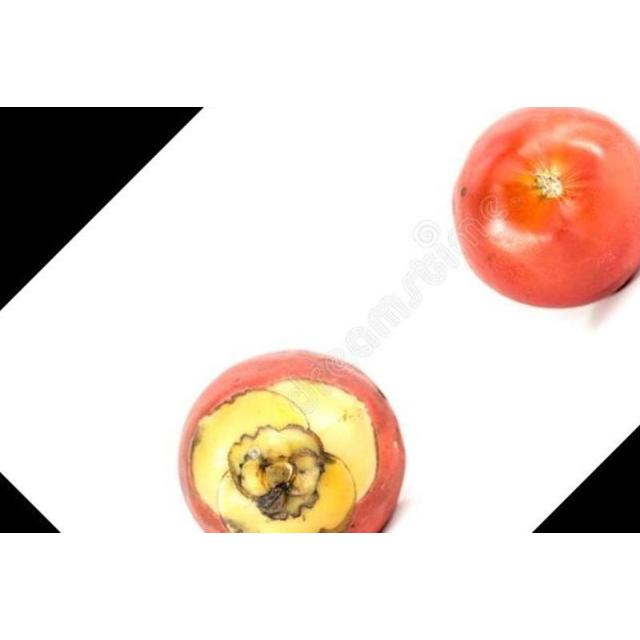good: (178, 353, 407, 533), (451, 107, 639, 310)
